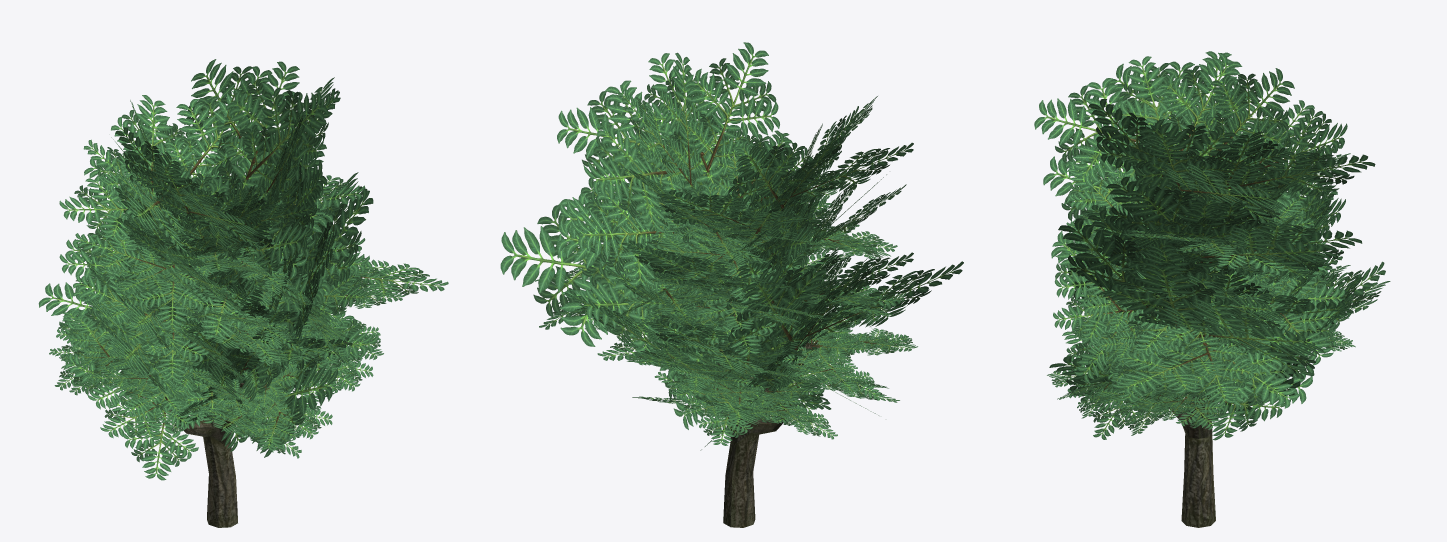
The model's file is CEDRO_VINTEGRACION.fbx.
3 views of the same model, side by side, from view 1: azimuth 30°, elevation 25°; view 2: azimuth 150°, elevation 25°; view 3: azimuth 270°, elevation 25° (orthographic). The views are drawn at different scales.
Parts seen in each view (by area): view 1: cedro_LOD0; view 2: cedro_LOD0; view 3: cedro_LOD0.
Boxes of the visible parts, <box> form: cedro_LOD0: <box>38,59,448,527</box>; cedro_LOD0: <box>500,42,963,527</box>; cedro_LOD0: <box>1034,51,1390,527</box>.
Size of what is drawn, in the model's own units: 34.05 by 35.05 by 28.74.
